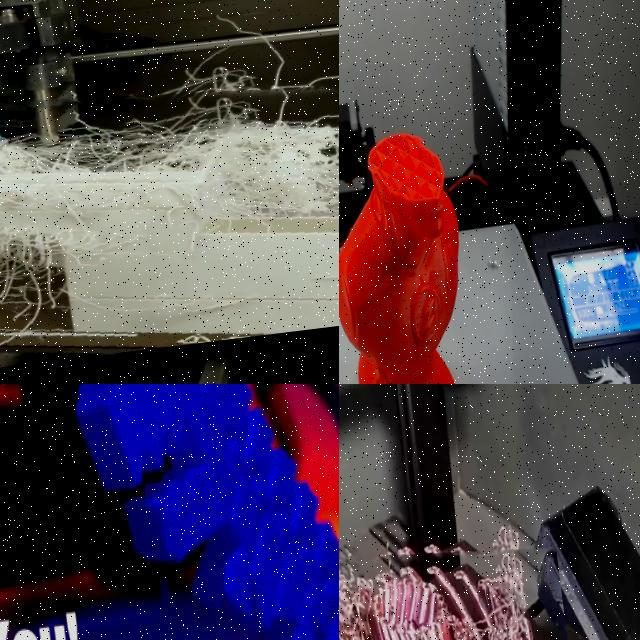spaghetti: (0, 33, 339, 384), (339, 516, 598, 640)
